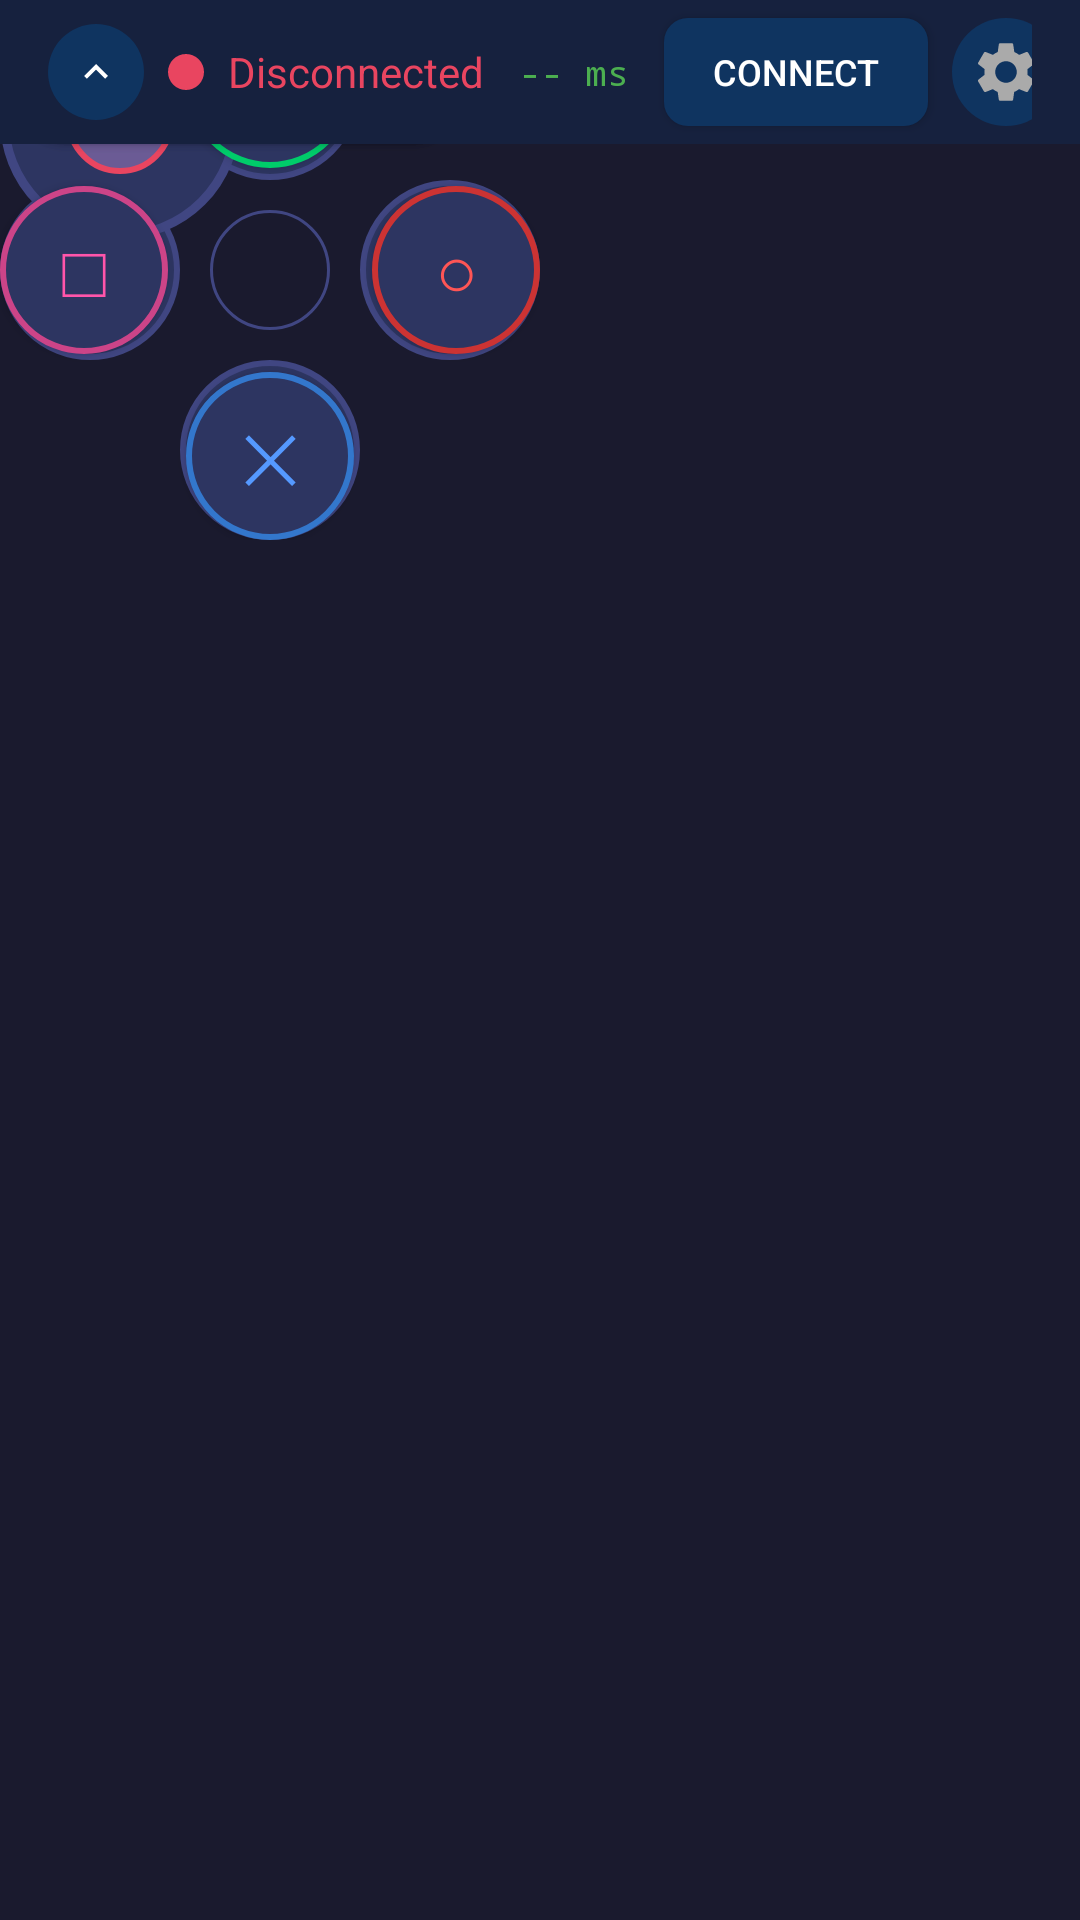

Icon bounding boxes for this 1080x1920 phone screenshot, format (x1, y1, x2, y2):
Settings: (952, 18, 1032, 126)
Toggle Bar: (48, 24, 144, 120)
